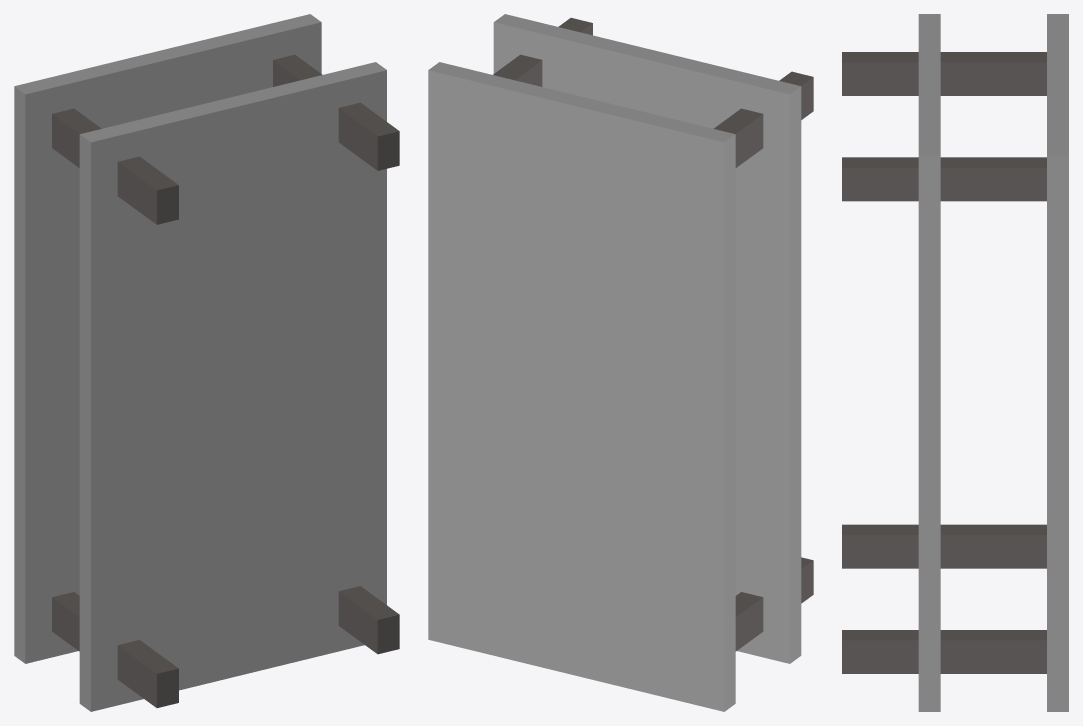
The model's file is CoffeeTable.glb.
3 renders of one model, left to right at view 1: azimuth 30°, elevation 25°; view 2: azimuth 150°, elevation 25°; view 3: azimuth 270°, elevation 25°, orthographic. The views are drawn at different scales.
Visible parts, largest first — view 1: SO_Coffeetable_01; view 2: SO_Coffeetable_01; view 3: SO_Coffeetable_01.
Part boxes in pixels (left/top/right/bottom): SO_Coffeetable_01: left=14, top=14, right=399, bottom=711; SO_Coffeetable_01: left=428, top=14, right=813, bottom=711; SO_Coffeetable_01: left=842, top=14, right=1068, bottom=711.
Bounding box in the file's own units: 1.22 × 2.24 × 0.8274.
Materials: 1 (1 with a texture image).
